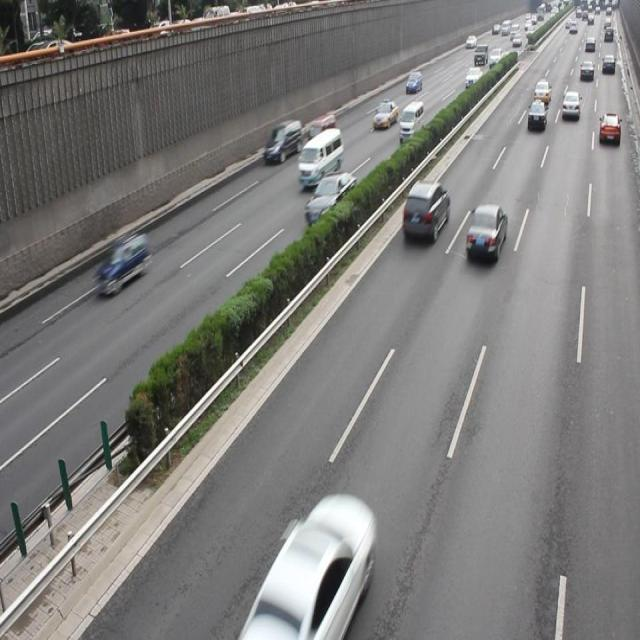car: (256, 494, 370, 640), (96, 230, 147, 291), (402, 178, 449, 243), (305, 171, 356, 228), (465, 202, 506, 261), (598, 110, 620, 146), (373, 100, 396, 129), (526, 100, 544, 130), (561, 90, 578, 119)
truck: (298, 127, 343, 188), (264, 119, 301, 164), (398, 101, 422, 141), (308, 114, 335, 149)
